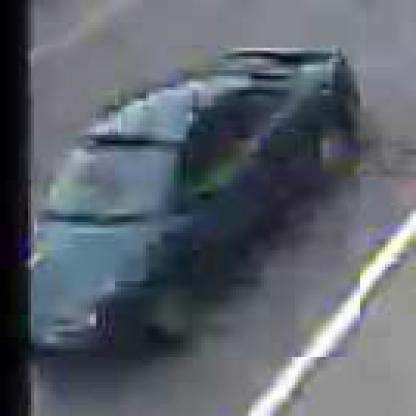car: (32, 49, 361, 361)
